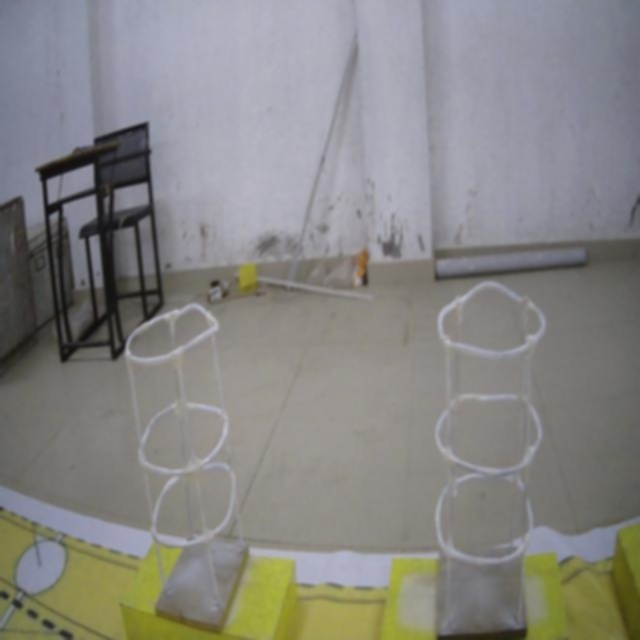silo: (419, 258, 556, 640), (115, 286, 263, 634)
